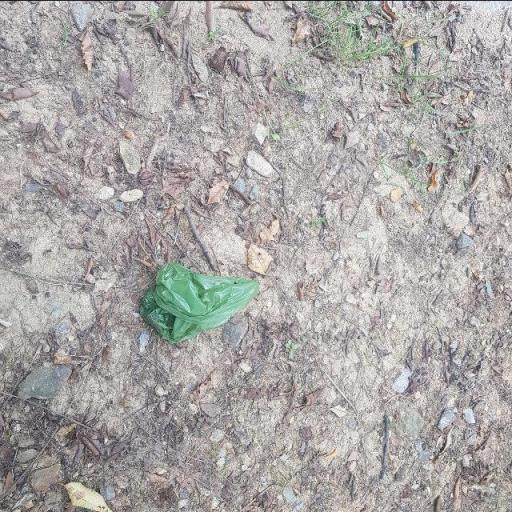plastic-bag: (134, 262, 262, 348)
